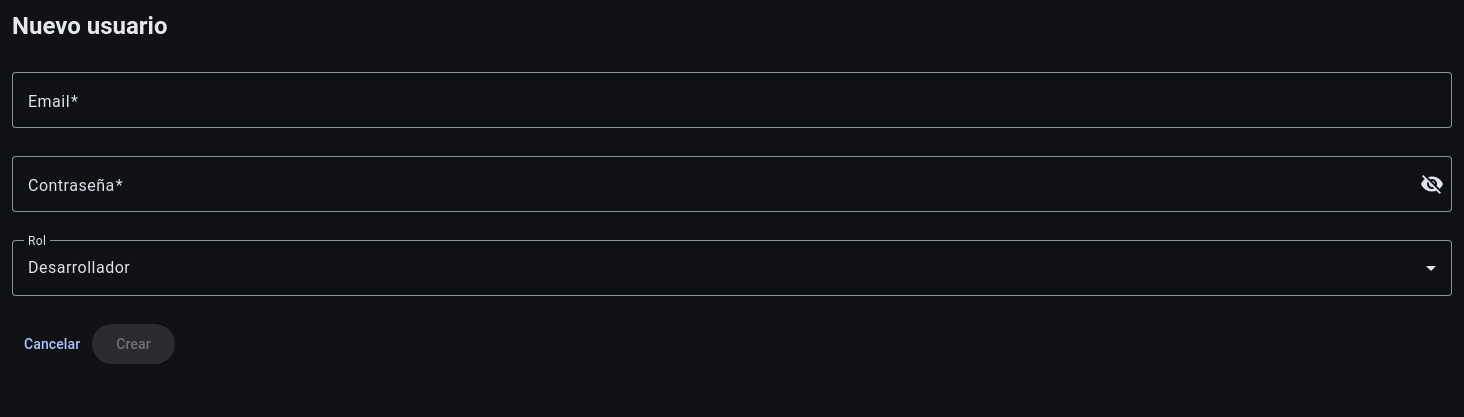
Test: CreateUserDialogComponent › Error 500 — error del servidor › debe mostrar el banner de error genérico
Type "user@example.com" into the field named "Correo electrónico" at [732, 100], box [28,88,1436,112]
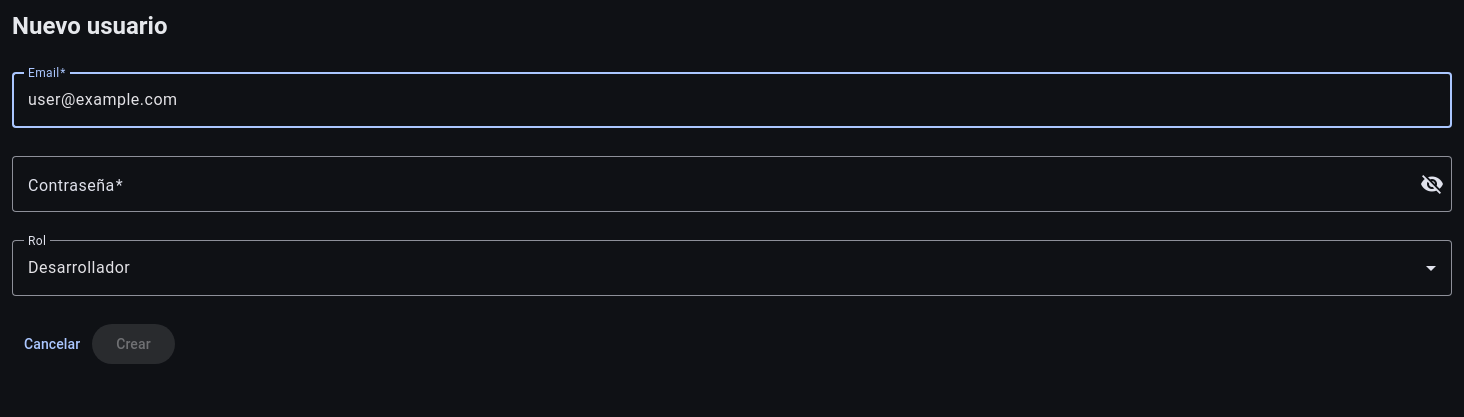
Type "password123" into the password field labelled "Contraseña" at [718, 184], box [28,172,1408,196]
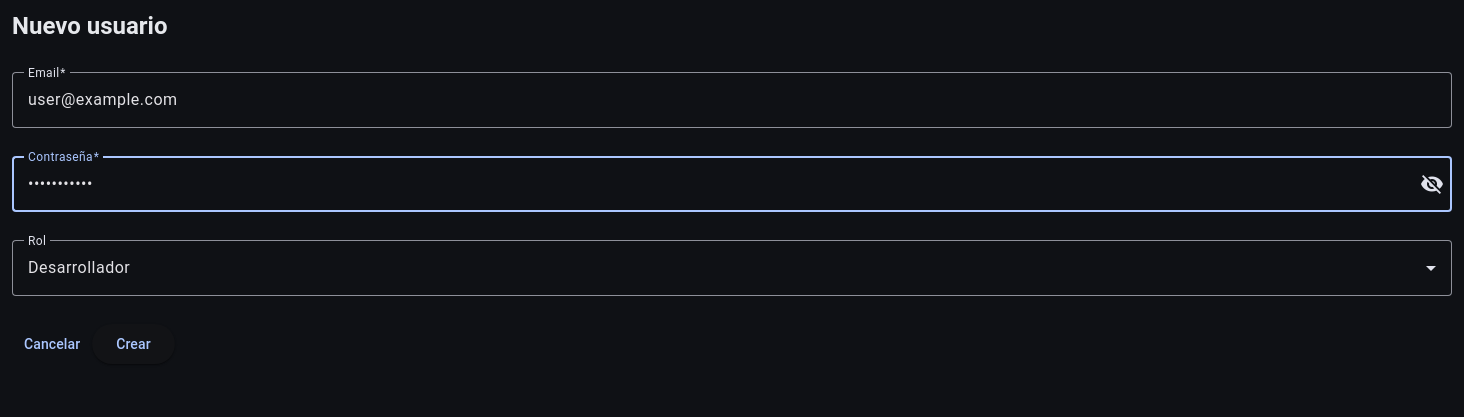
Click the button "Crear" at [133, 344], box [92,324,175,364]
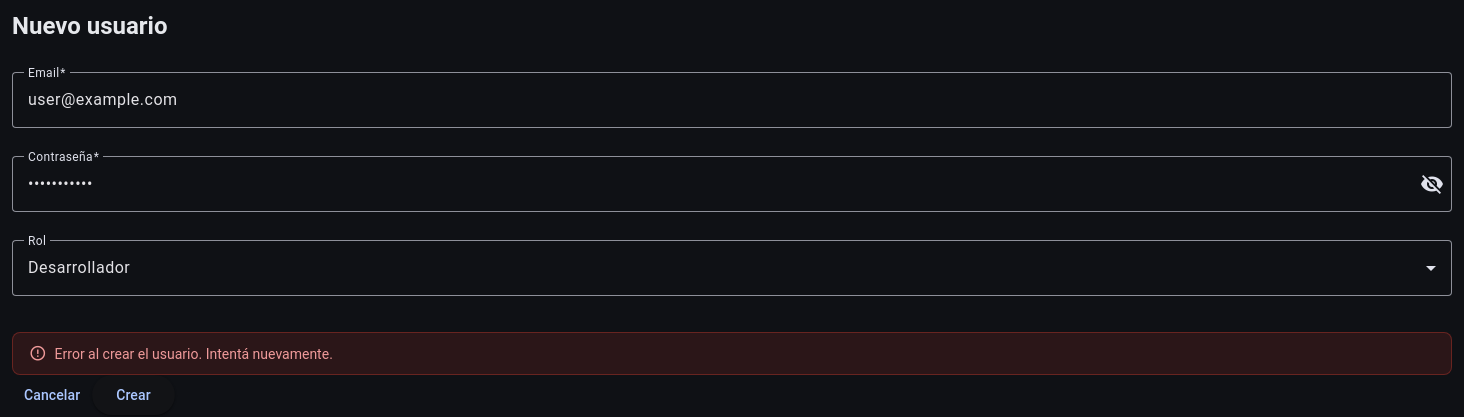
Expected: the message "Error al crear el usuario. Intentá nuevamente." is shown, [12,332,1452,375]
Expected: the text "Error al crear el usuario. Intentá nuevamente." is shown, [55,346,333,362]
